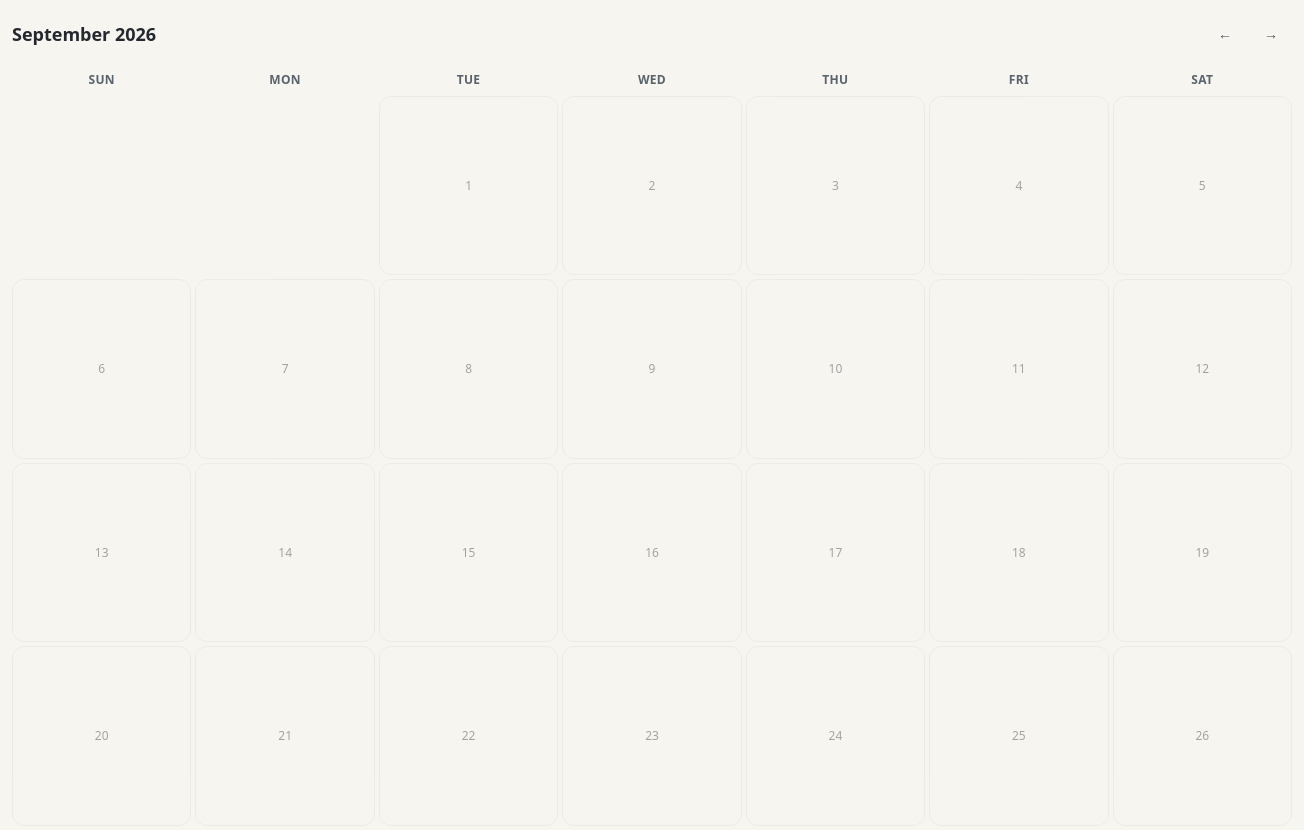
Test: navigates months and dims days outside the data horizon
Click the button named "Previous month".
click(1225, 34)  # box x1=1204 y1=12 x2=1246 y2=56
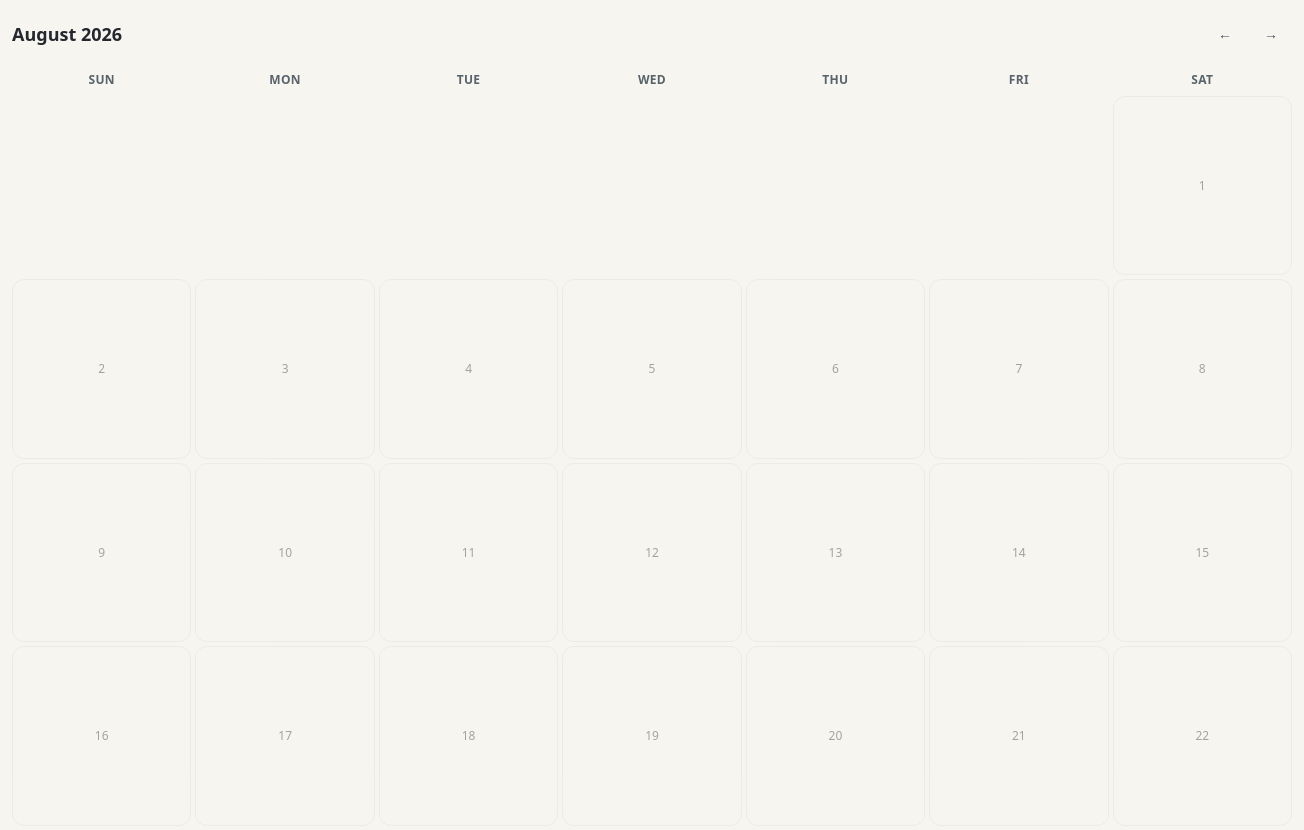
Check: the heading "August 2026" is shown, box x1=12 y1=20 x2=122 y2=48
